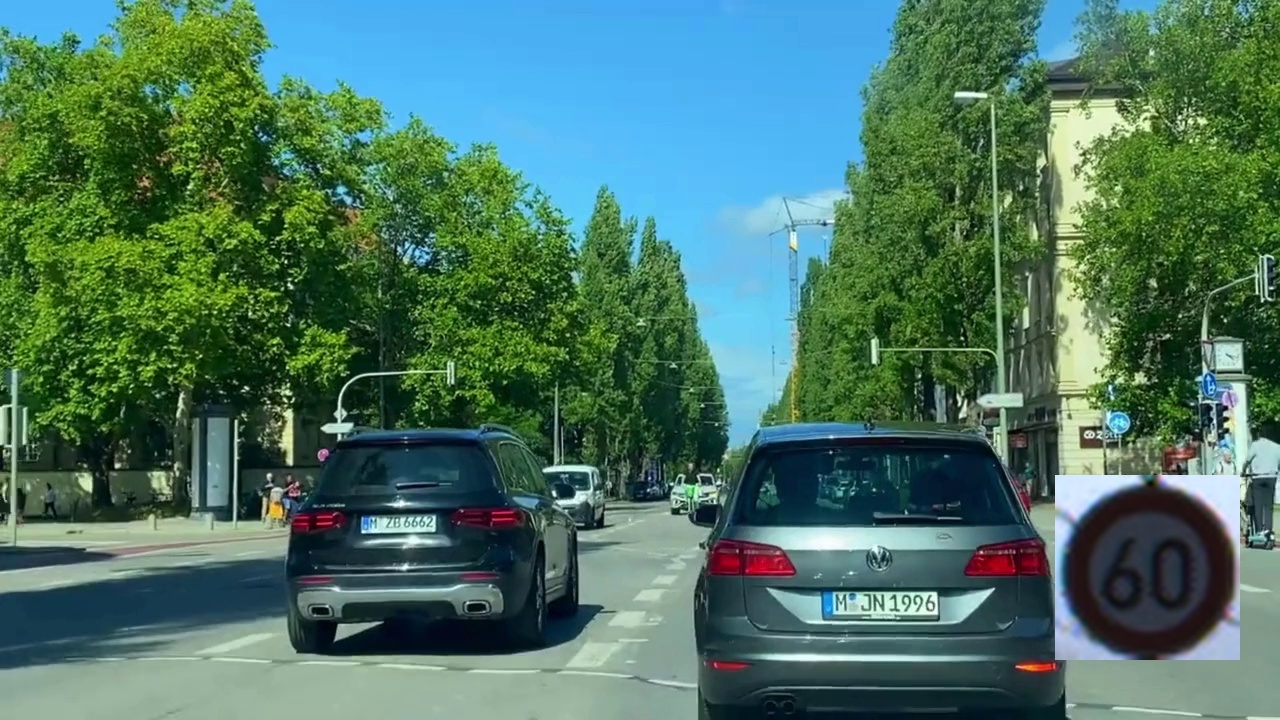Speed 60: (1055, 475, 1240, 660)
